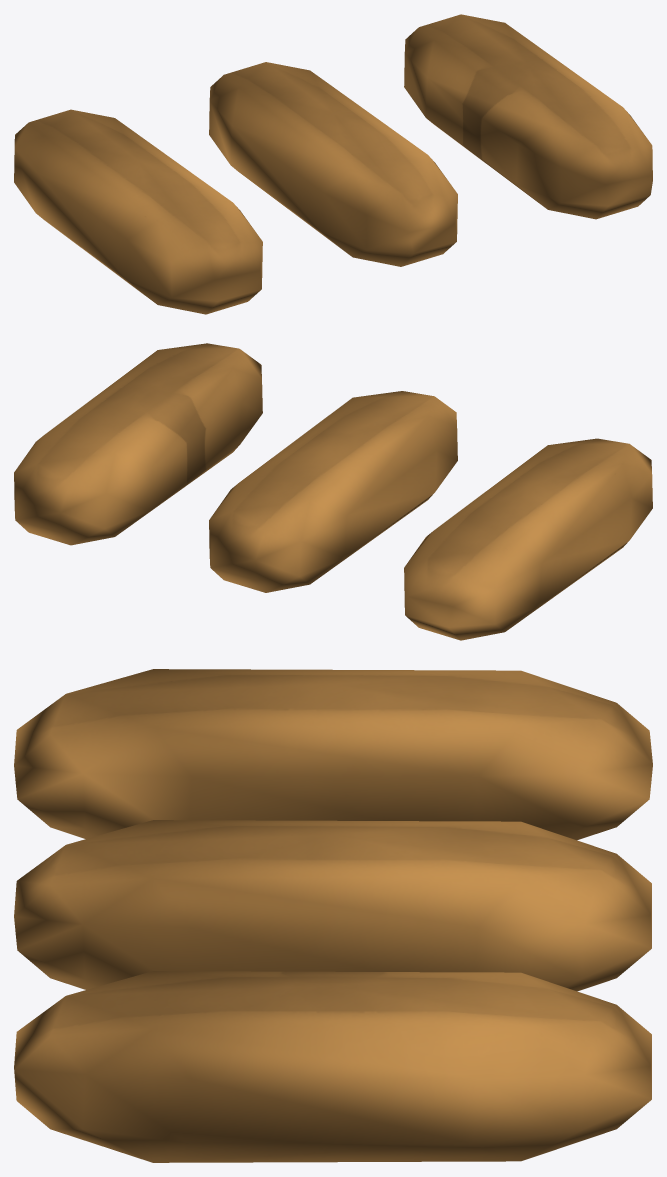
File: CarritoPanchos_pan.fbx
3 views of the same model, one above another, from view 1: azimuth 30°, elevation 25°; view 2: azimuth 150°, elevation 25°; view 3: azimuth 270°, elevation 25° (orthographic). The views are drawn at different scales.
Parts seen in each view (by area): view 1: Civ_CarritoPanchos_pan; view 2: Civ_CarritoPanchos_pan; view 3: Civ_CarritoPanchos_pan.
Part boxes in pixels (box(x1,y1,x2,y2)): Civ_CarritoPanchos_pan: box(14, 14, 652, 314); Civ_CarritoPanchos_pan: box(14, 343, 652, 640); Civ_CarritoPanchos_pan: box(14, 669, 652, 1162).
Size of the model in its own units: 1.11 by 0.2143 by 0.7665.
